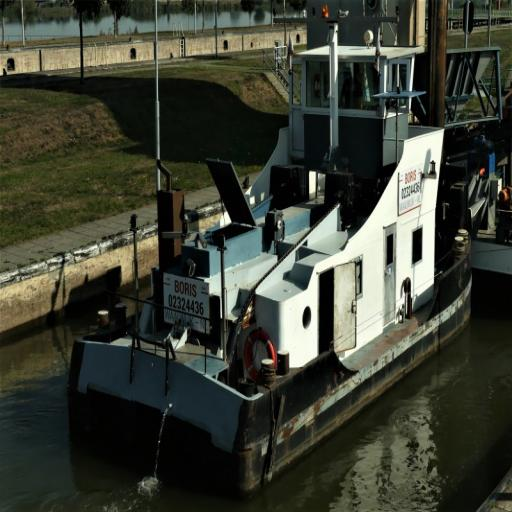tugboat: (59, 18, 477, 499)
